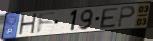1: (68, 9, 79, 33)
9: (77, 8, 95, 32)
E: (99, 7, 119, 29)
F: (36, 11, 58, 35)
H: (17, 13, 38, 37)
P: (117, 5, 137, 28)
